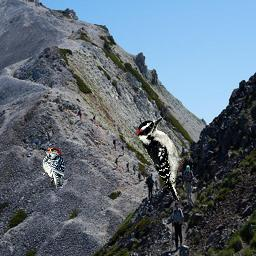Woodpecker: (136, 117, 198, 202), (37, 145, 66, 188)
